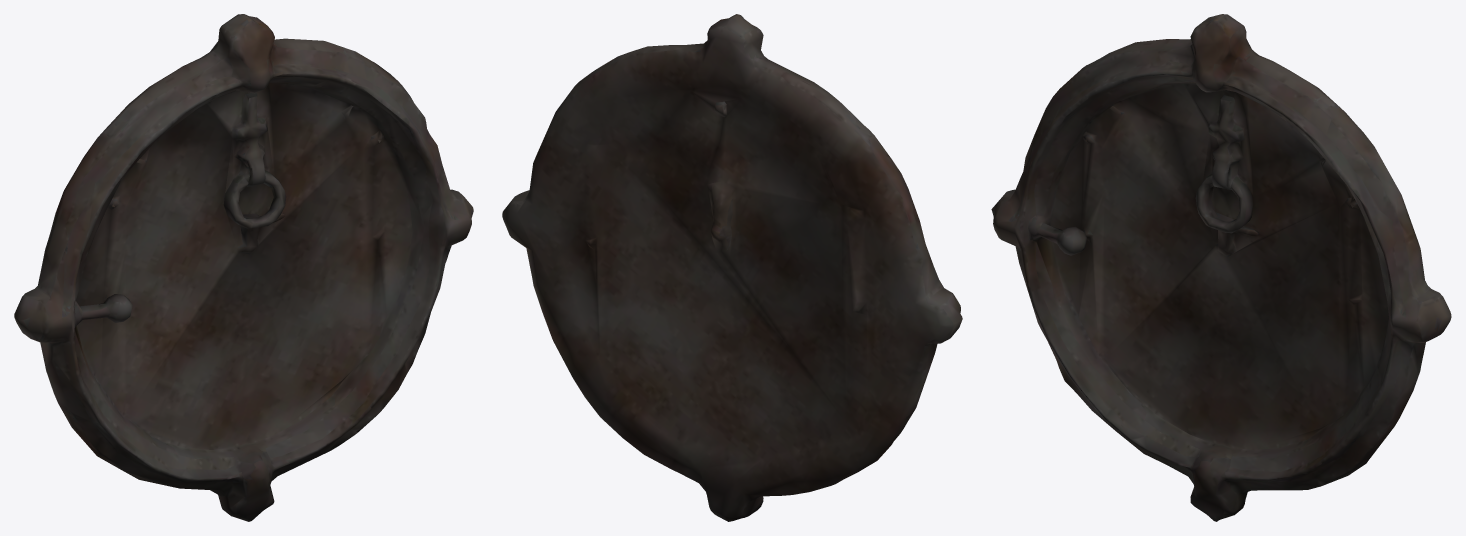
File: plain-iron-castle-door-v001.glb
3 renders of one model, left to right at view 1: azimuth 30°, elevation 25°; view 2: azimuth 150°, elevation 25°; view 3: azimuth 330°, elevation 25°, orthographic.
Visible parts, largest first — view 1: plain-iron-castle-door; view 2: plain-iron-castle-door; view 3: plain-iron-castle-door.
Part boxes in pixels (x1,y1,x2,y2): plain-iron-castle-door: [14, 14, 473, 521]; plain-iron-castle-door: [502, 14, 962, 521]; plain-iron-castle-door: [991, 14, 1451, 521].
Bounding box in the file's own units: 2.66 × 2.82 × 0.329.
Materials: 1 (1 with a texture image).
